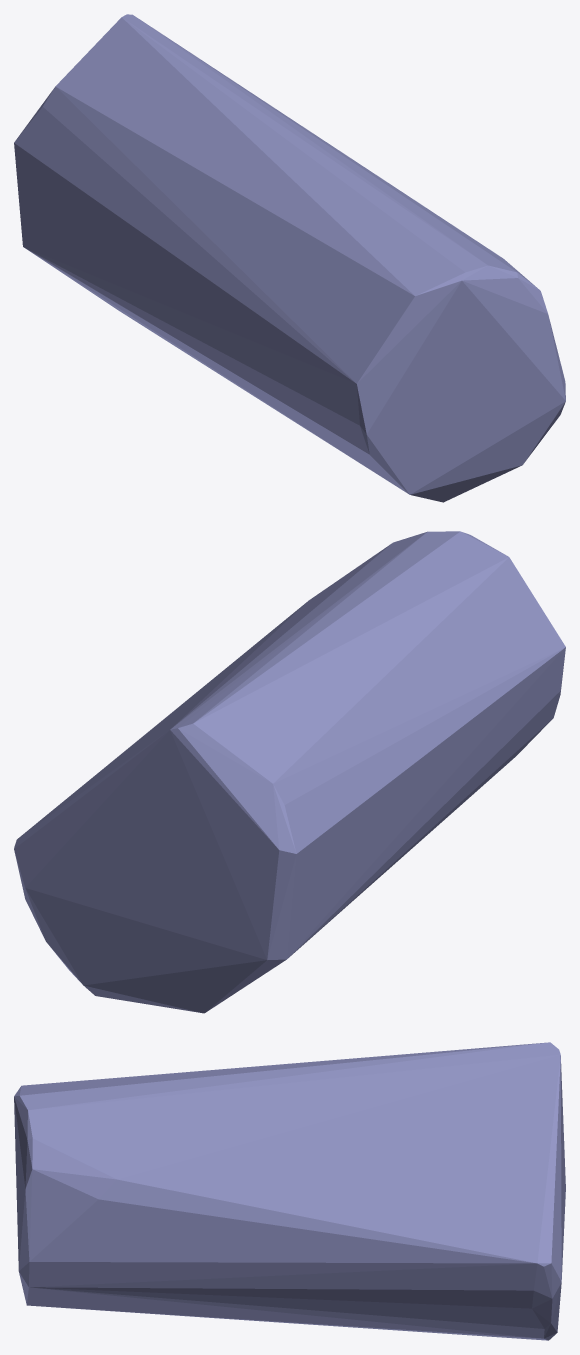
Rendered from decor_candle_k01.glb.
3 views of the same model, one above another, from view 1: azimuth 30°, elevation 25°; view 2: azimuth 150°, elevation 25°; view 3: azimuth 270°, elevation 25° (orthographic). The views are drawn at different scales.
Visible parts, largest first — view 1: geometry_0; view 2: geometry_0; view 3: geometry_0.
Part boxes in pixels (left/top/right/bottom): geometry_0: left=14, top=14, right=565, bottom=502; geometry_0: left=14, top=531, right=565, bottom=1013; geometry_0: left=14, top=1042, right=565, bottom=1340.
Size of the model in its own units: 0.2224 by 0.2179 by 0.4246.
